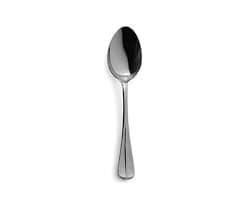spoon: (103, 23, 147, 184)
